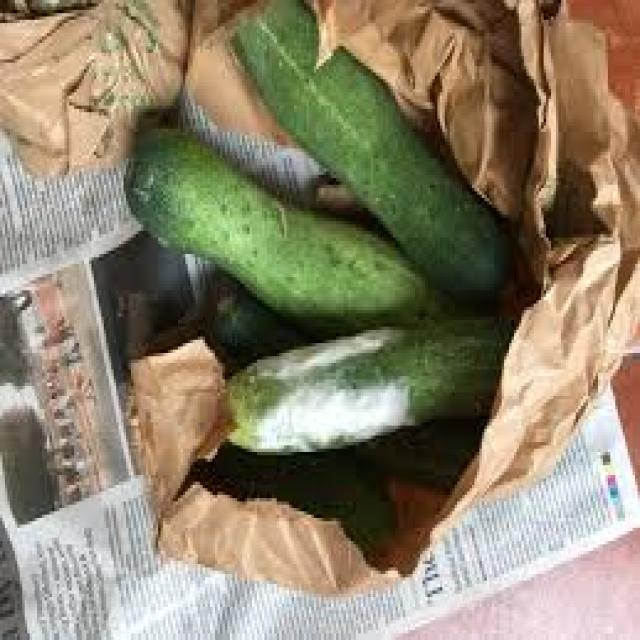organic waste: (225, 0, 509, 294), (121, 128, 465, 326), (190, 307, 516, 442), (185, 432, 393, 544), (272, 412, 477, 492), (203, 284, 311, 346)
